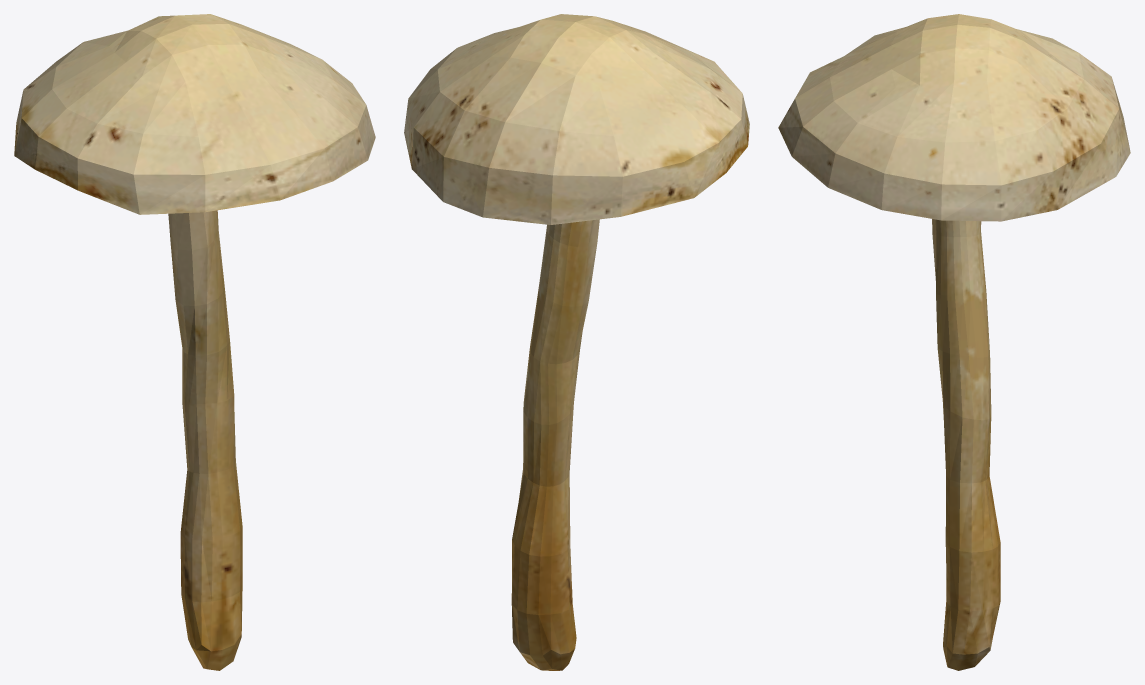
Rendered from P_Caogu_01.obj.
3 renders of one model, left to right at view 1: azimuth 30°, elevation 25°; view 2: azimuth 150°, elevation 25°; view 3: azimuth 270°, elevation 25°, orthographic. The views are drawn at different scales.
Bounding box in the file's own units: 0.1912 × 0.3808 × 0.1917.
1 material, 1 textured.
